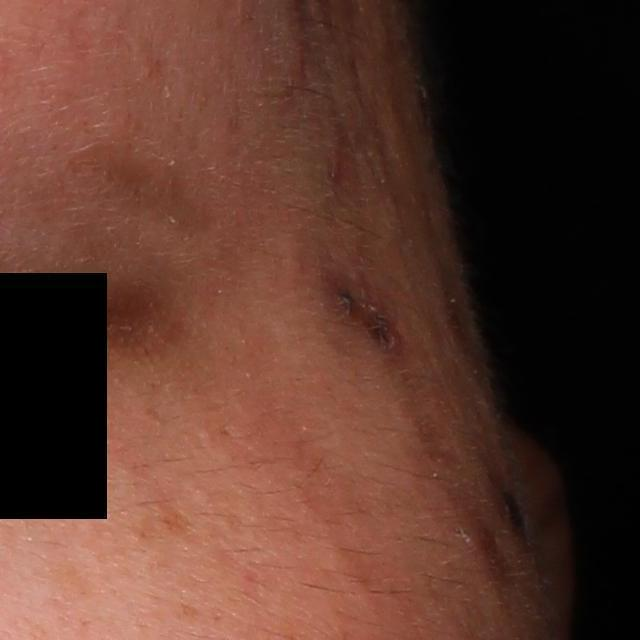melasma: (132, 504, 199, 544), (175, 596, 205, 621)
